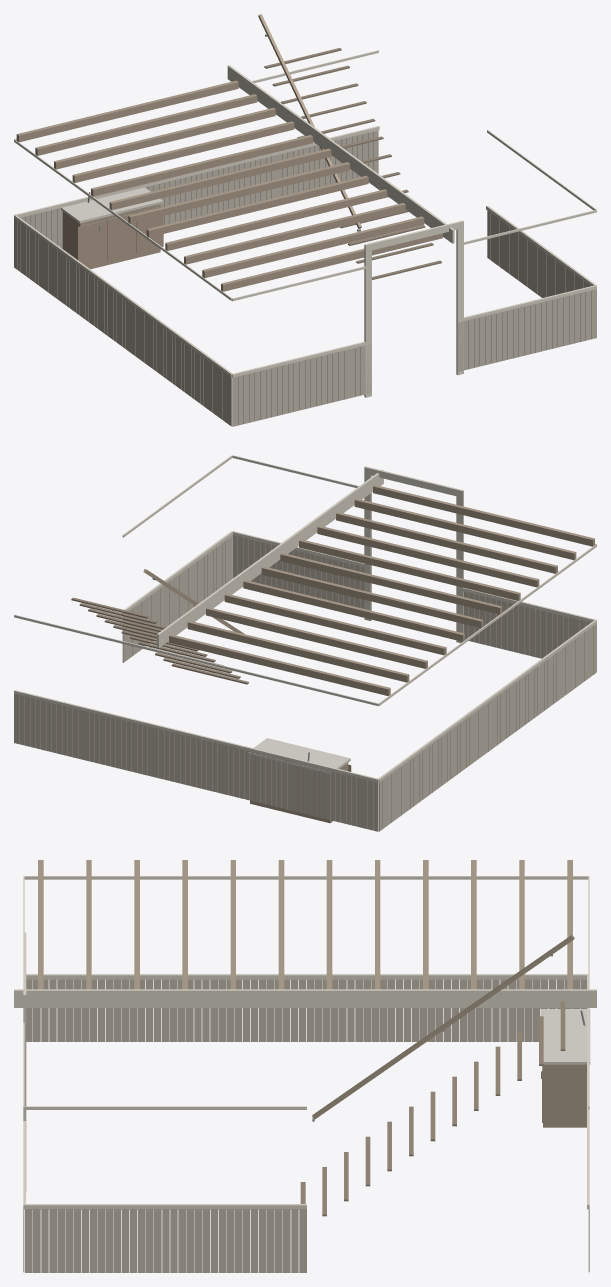
File: road_house_inside.glb
The picture shows the model from 3 angles, top to bottom: view 1: azimuth 30°, elevation 25°; view 2: azimuth 150°, elevation 25°; view 3: azimuth 270°, elevation 25°; orthographic projection. The views are drawn at different scales.
Visible parts, largest first — view 1: RoadHouseInside; view 2: RoadHouseInside; view 3: RoadHouseInside.
Boxes of the visible parts, x1,y1,x2,y2 form: RoadHouseInside: [14, 14, 596, 426]; RoadHouseInside: [14, 455, 596, 831]; RoadHouseInside: [14, 860, 596, 1272].
Bounding box in the file's own units: 6.88 × 3.61 × 7.27.
